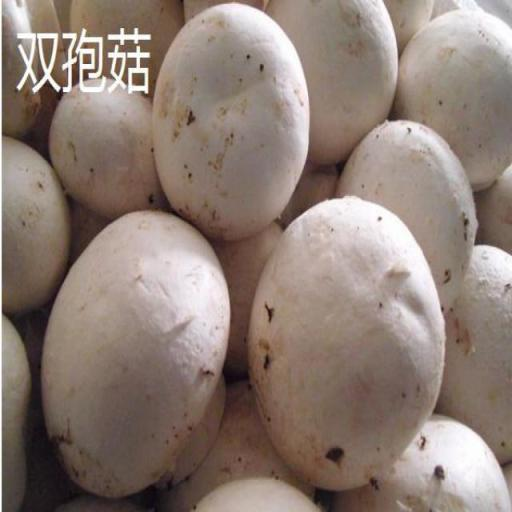mushroom: (260, 202, 442, 488), (42, 212, 226, 483), (156, 6, 307, 236), (332, 120, 482, 321), (403, 10, 512, 190)
